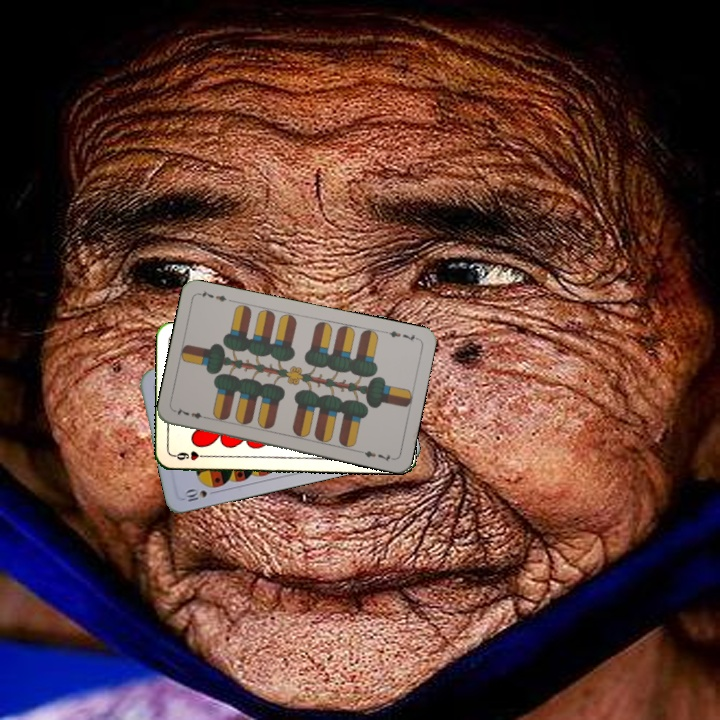E7: (171, 403, 212, 422), (380, 327, 421, 344)
H9: (170, 447, 211, 463)
S10: (181, 485, 220, 505)
